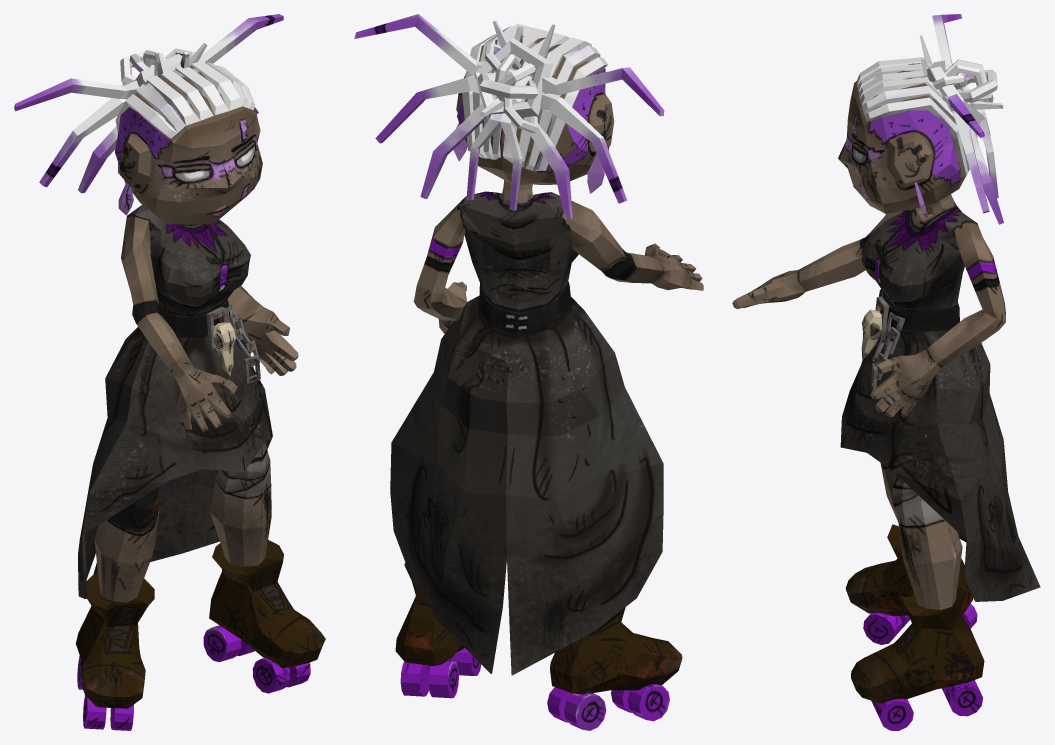
Rendered from bruja_000005.obj.
3 views of the same model, side by side, from view 1: azimuth 30°, elevation 25°; view 2: azimuth 150°, elevation 25°; view 3: azimuth 270°, elevation 25° (orthographic). The views are drawn at different scales.
Visible parts, largest first — view 1: Bruja_Plane.001; view 2: Bruja_Plane.001; view 3: Bruja_Plane.001.
Part boxes in pixels (bbox=[...]): Bruja_Plane.001: bbox=[14, 14, 325, 730]; Bruja_Plane.001: bbox=[354, 14, 703, 730]; Bruja_Plane.001: bbox=[732, 14, 1040, 730].
Size of the model in its own units: 7.45 by 16.56 by 7.29.
